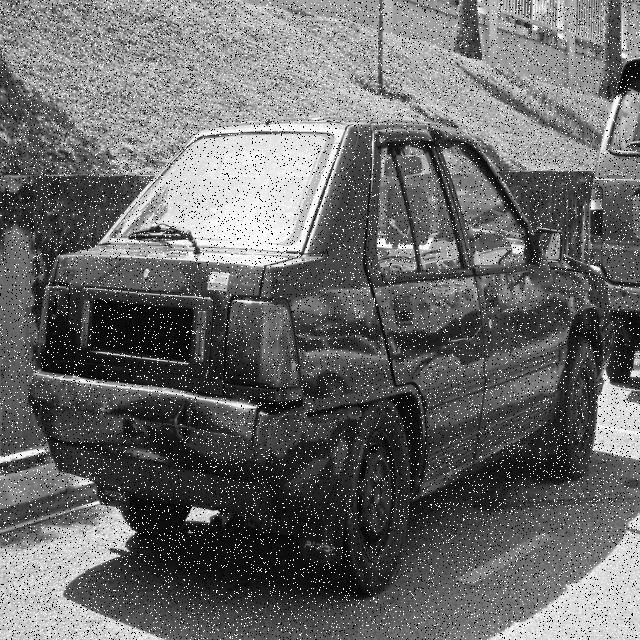rear-bumper-dent: (15, 367, 323, 524)
